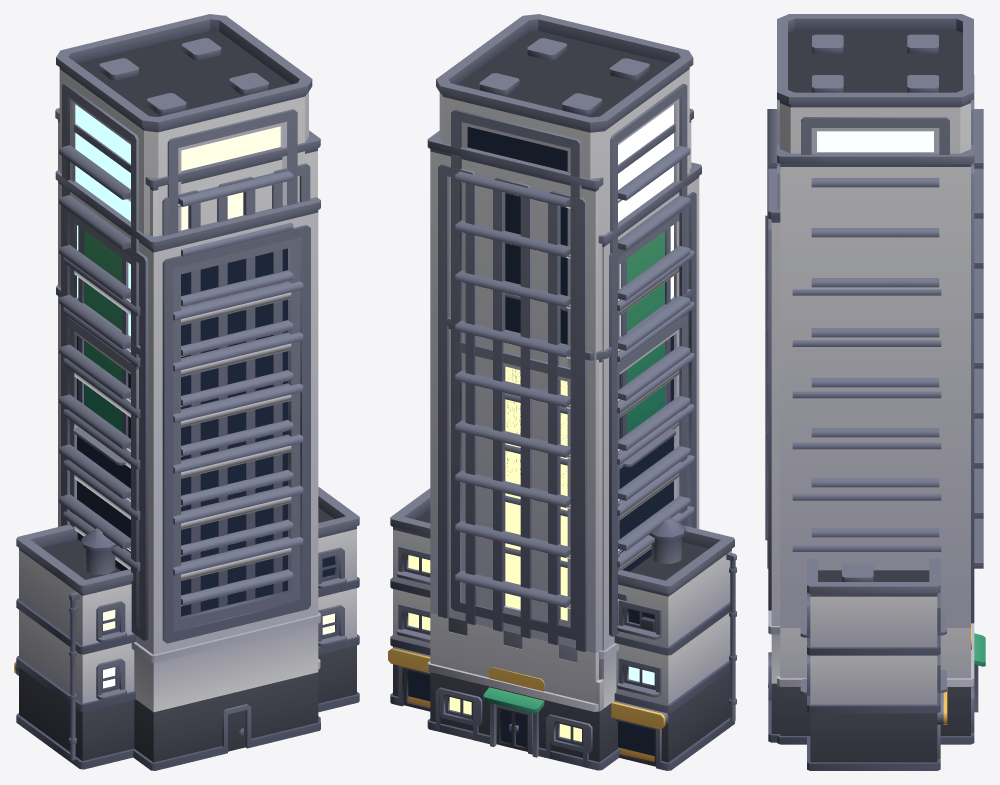
File: city.glb
3 views of the same model, side by side, from view 1: azimuth 30°, elevation 25°; view 2: azimuth 150°, elevation 25°; view 3: azimuth 270°, elevation 25° (orthographic).
Visible parts, largest first — view 1: skyscraper_c, skyscraper_b, building_e, skyscraper_d, skyscraper_a; view 2: skyscraper_d, skyscraper_b, building_e, skyscraper_a, skyscraper_c; view 3: skyscraper_d, skyscraper_b, building_e, skyscraper_c, skyscraper_a.
Boxes of the visible parts, x1,y1,x2,y2 form: skyscraper_c: (55,170,320,770); skyscraper_b: (56,14,312,760); building_e: (14,487,359,769); skyscraper_d: (55,108,320,720); skyscraper_a: (56,283,293,625); skyscraper_d: (427,108,693,769); skyscraper_b: (436,14,693,770); building_e: (388,488,736,770); skyscraper_a: (432,289,691,770); skyscraper_c: (483,162,701,766); skyscraper_d: (777,75,974,744); skyscraper_b: (767,14,983,734); building_e: (800,558,947,770); skyscraper_c: (765,168,985,742); skyscraper_a: (767,324,983,735).
Bounding box in the file's own units: 22.92 × 49.28 × 15.27.
Materials: 13 (3 with a texture image).
